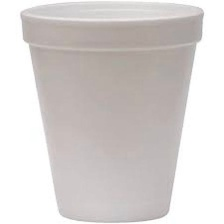paper_cup: (12, 0, 210, 224)
